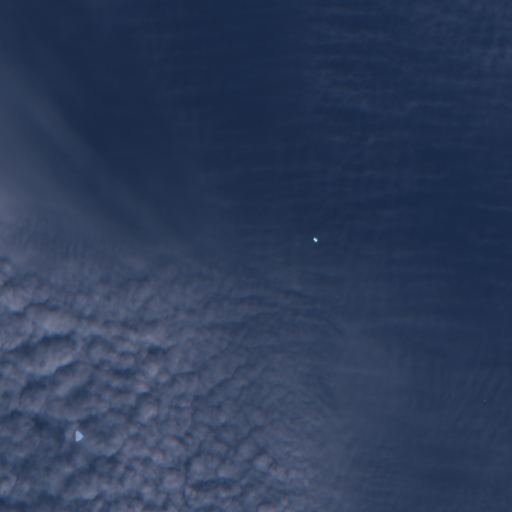Iceberg: (76, 431, 82, 440), (313, 237, 317, 241), (484, 400, 485, 401)
